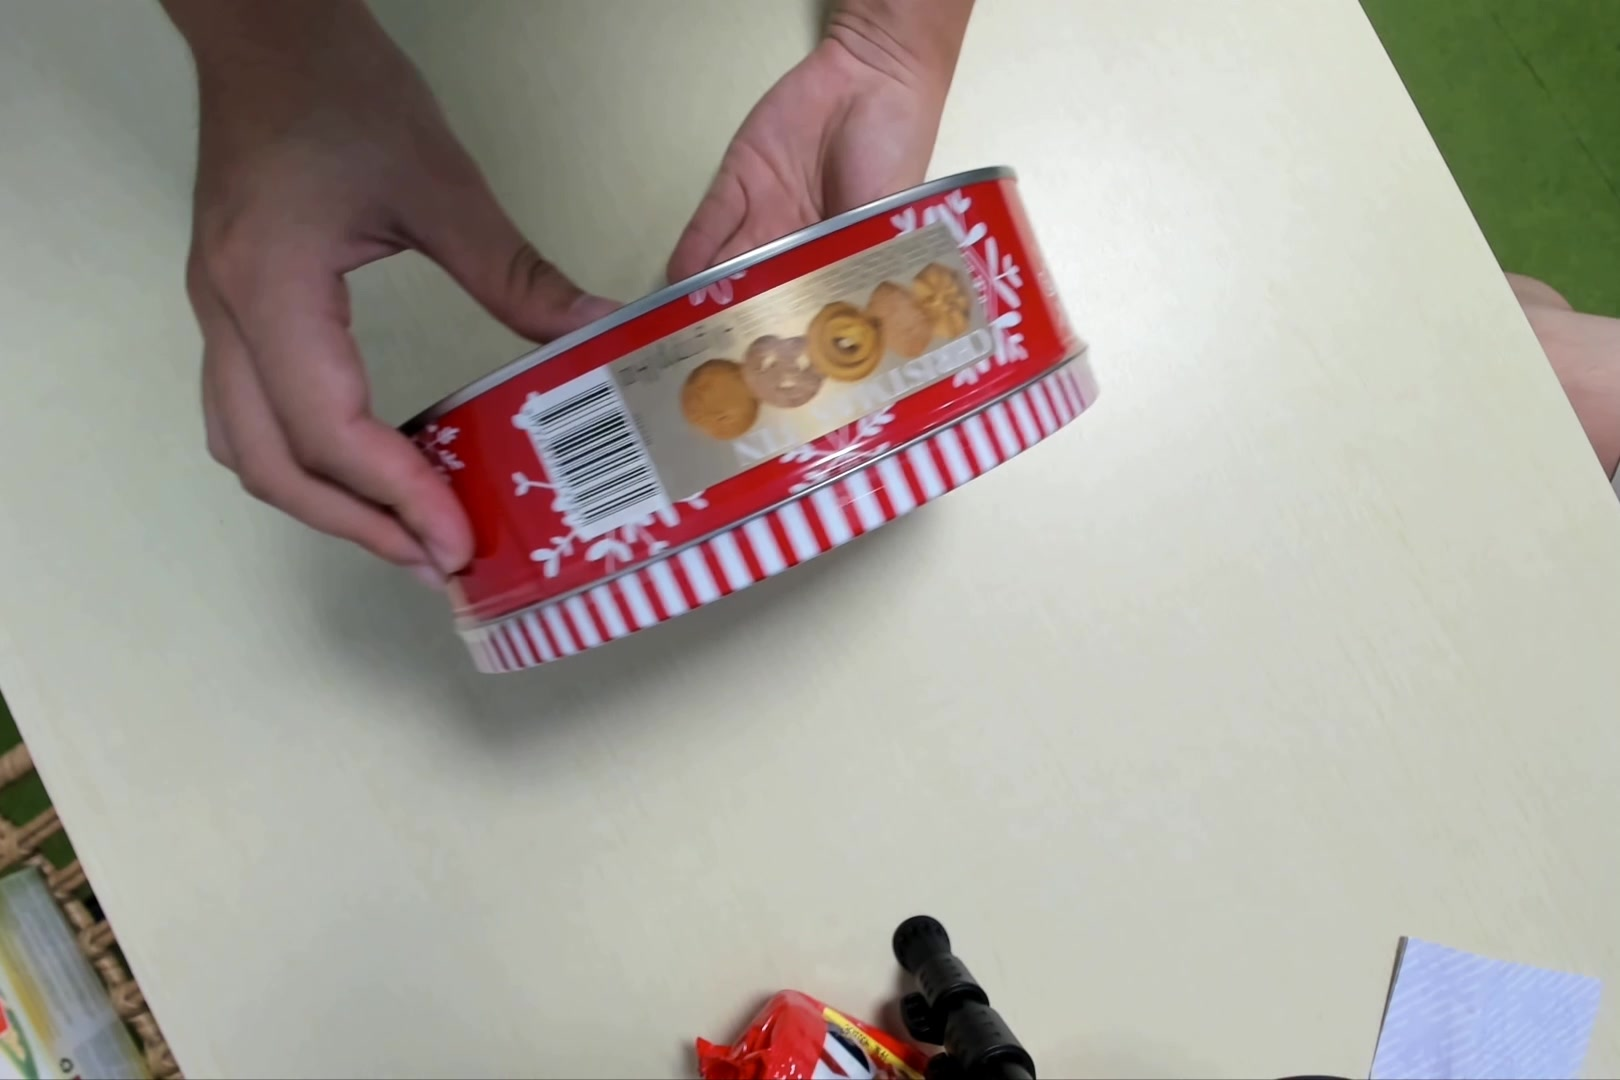BiscuitsCrackersCookies_400-499g_NonHalal_NonHealthy: (385, 159, 1081, 683)
